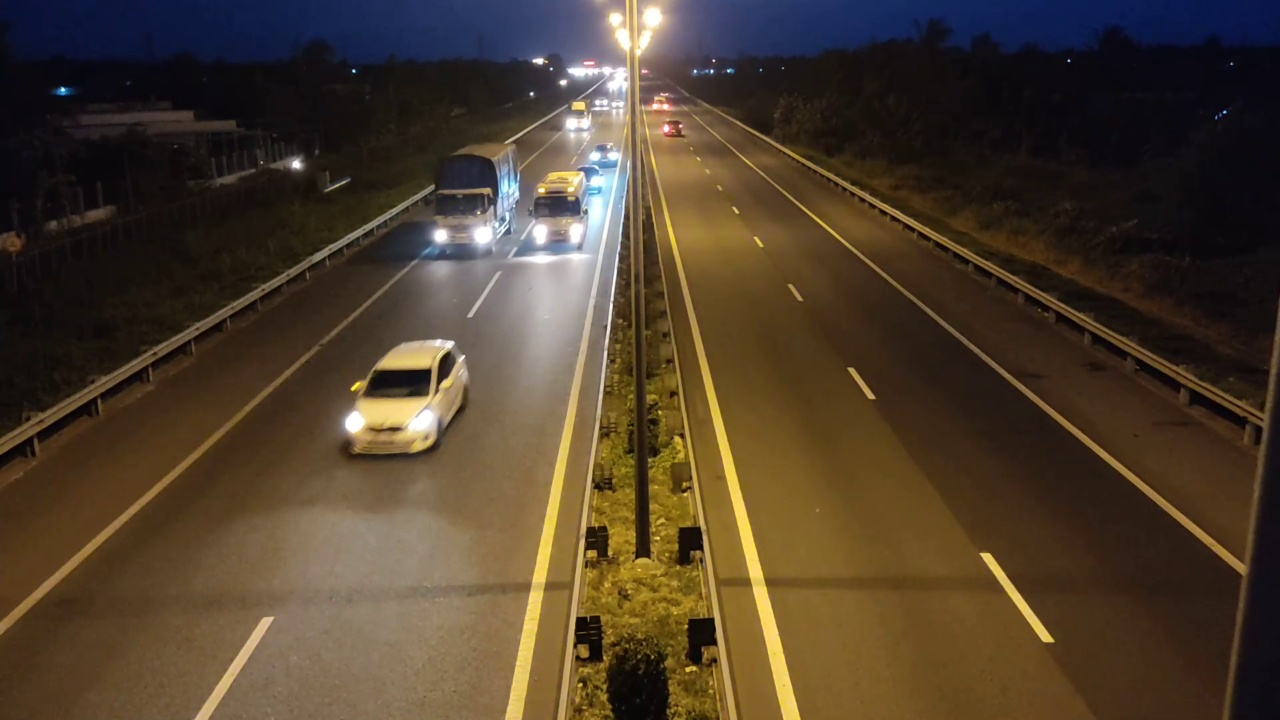bus: (528, 162, 590, 256)
car: (341, 338, 471, 457)
truck: (422, 130, 525, 261)
